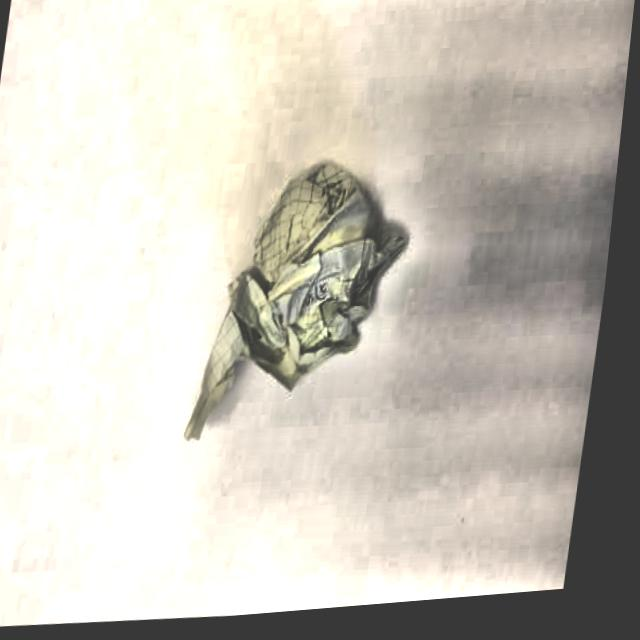Paper: (156, 136, 457, 475)
